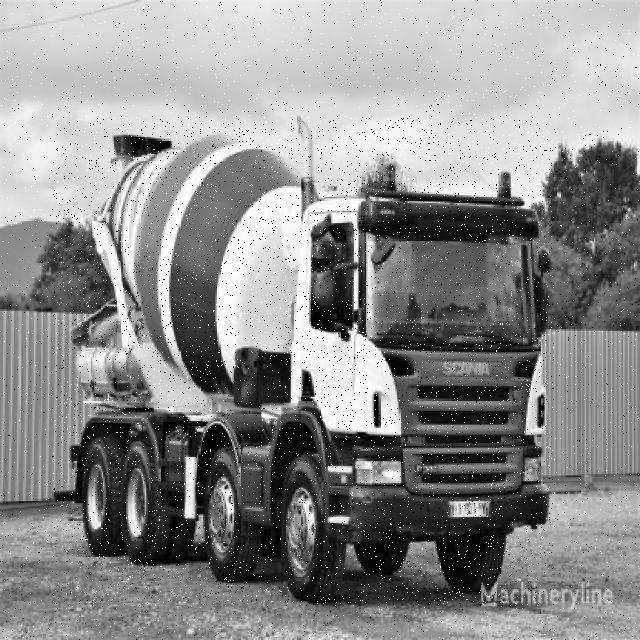Concrete Mixer: (53, 116, 554, 606)
